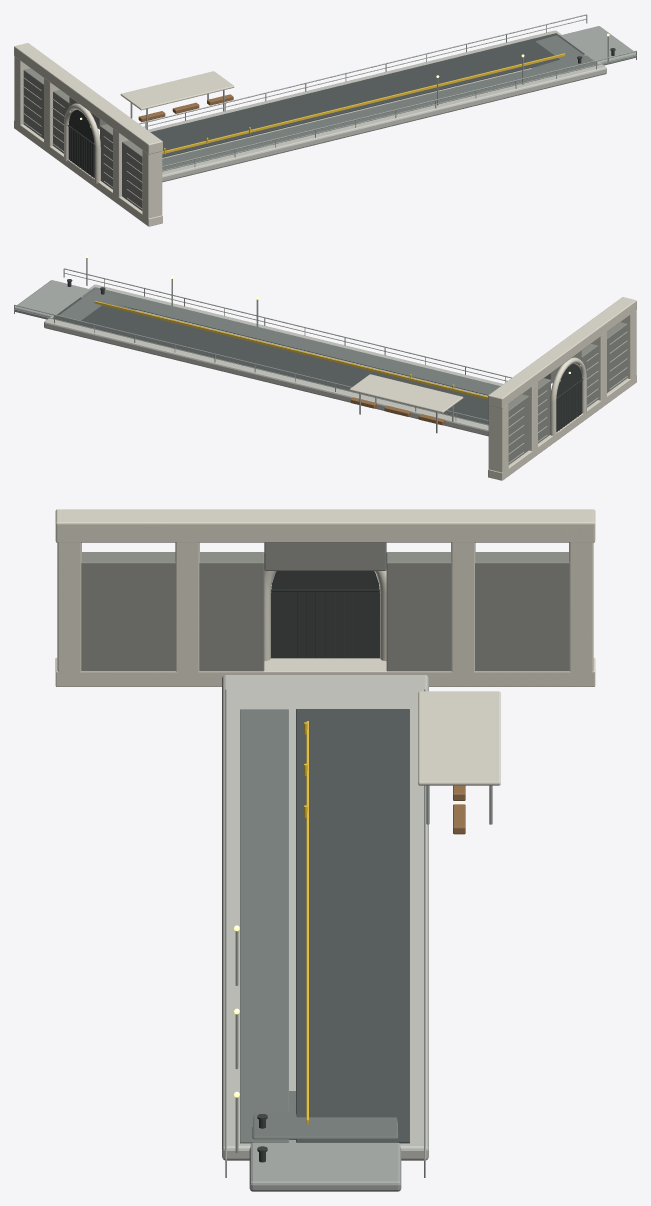
Rendered from ferry-qigan-pier-v13-lod2.glb.
3 views of the same model, one above another, from view 1: azimuth 30°, elevation 25°; view 2: azimuth 150°, elevation 25°; view 3: azimuth 270°, elevation 25° (orthographic). The views are drawn at different scales.
Parts seen in each view (by area): view 1: Qigan vehicle lane.001, Qigan approach road.001, Qigan pedestrian lane.001, Qigan ivory facade parapet.001, Qigan modest waiting shelter roof, Qigan gray brick right wing.001, Qigan gray brick left wing.001, Qigan floating pontoon.001, Qigan ivory facade base.001, Qigan lane divider.001, Qigan ivory facade pier.004, Qigan recessed rounded arch opening.001 (+9 smaller); view 2: Qigan vehicle lane.001, Qigan approach road.001, Qigan pedestrian lane.001, Qigan ivory facade parapet.001, Qigan modest waiting shelter roof, Qigan gray brick left wing.001, Qigan gray brick right wing.001, Qigan floating pontoon.001, Qigan ivory facade base.001, Qigan lane divider.001, Qigan ivory facade pier.007, Qigan recessed rounded arch opening.001 (+9 smaller); view 3: Qigan vehicle lane.001, Qigan approach road.001, Qigan pedestrian lane.001, Qigan gray brick left wing.001, Qigan gray brick right wing.001, Qigan ivory facade parapet.001, Qigan recessed rounded arch opening.001, Qigan modest waiting shelter roof, Qigan ivory facade base.001, Qigan floating pontoon.001, Qigan gray brick upper facade.001, Qigan boarding transition.001 (+7 smaller).
Part boxes in pixels (<box>): Qigan vehicle lane.001: <box>150,33,584,157</box>; Qigan approach road.001: <box>147,30,606,182</box>; Qigan pedestrian lane.001: <box>162,55,598,171</box>; Qigan ivory facade parapet.001: <box>14,43,162,154</box>; Qigan modest waiting shelter roof: <box>120,71,234,110</box>; Qigan gray brick right wing.001: <box>23,68,69,153</box>; Qigan gray brick left wing.001: <box>100,124,142,210</box>; Qigan floating pontoon.001: <box>560,26,635,65</box>; Qigan ivory facade base.001: <box>14,120,162,226</box>; Qigan lane divider.001: <box>162,53,565,154</box>; Qigan ivory facade pier.004: <box>142,150,162,218</box>; Qigan recessed rounded arch opening.001: <box>68,110,94,177</box>; Qigan vehicle lane.001: <box>52,297,488,424</box>; Qigan approach road.001: <box>44,284,503,436</box>; Qigan pedestrian lane.001: <box>83,287,500,395</box>; Qigan ivory facade parapet.001: <box>488,297,636,408</box>; Qigan modest waiting shelter roof: <box>349,374,463,413</box>; Qigan gray brick left wing.001: <box>581,322,627,407</box>; Qigan gray brick right wing.001: <box>508,378,550,464</box>; Qigan floating pontoon.001: <box>15,280,90,319</box>; Qigan ivory facade base.001: <box>488,374,636,480</box>; Qigan lane divider.001: <box>94,301,487,399</box>; Qigan ivory facade pier.007: <box>488,404,508,472</box>; Qigan recessed rounded arch opening.001: <box>556,364,582,431</box>; Qigan vehicle lane.001: <box>296,709,409,1143</box>; Qigan approach road.001: <box>222,674,428,1160</box>; Qigan pedestrian lane.001: <box>240,709,288,1143</box>; Qigan gray brick left wing.001: <box>81,552,264,671</box>; Qigan gray brick right wing.001: <box>386,552,569,671</box>; Qigan ivory facade parapet.001: <box>55,509,595,542</box>; Qigan recessed rounded arch opening.001: <box>271,571,379,658</box>; Qigan modest waiting shelter roof: <box>418,691,500,785</box>; Qigan ivory facade base.001: <box>55,657,595,686</box>; Qigan floating pontoon.001: <box>249,1140,401,1191</box>; Qigan gray brick upper facade.001: <box>264,542,386,570</box>; Qigan boarding transition.001: <box>252,1091,398,1139</box>.
Size of the model in its own units: 63.21 by 9.22 by 27.4.
